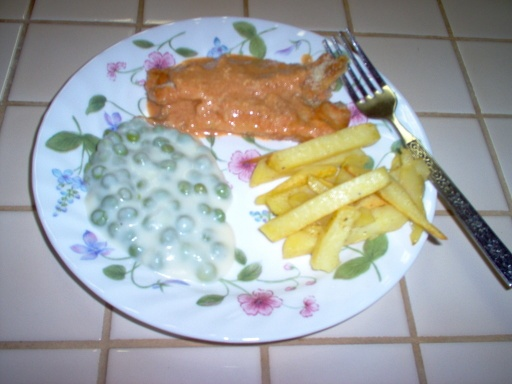background: (66, 31, 358, 169)
